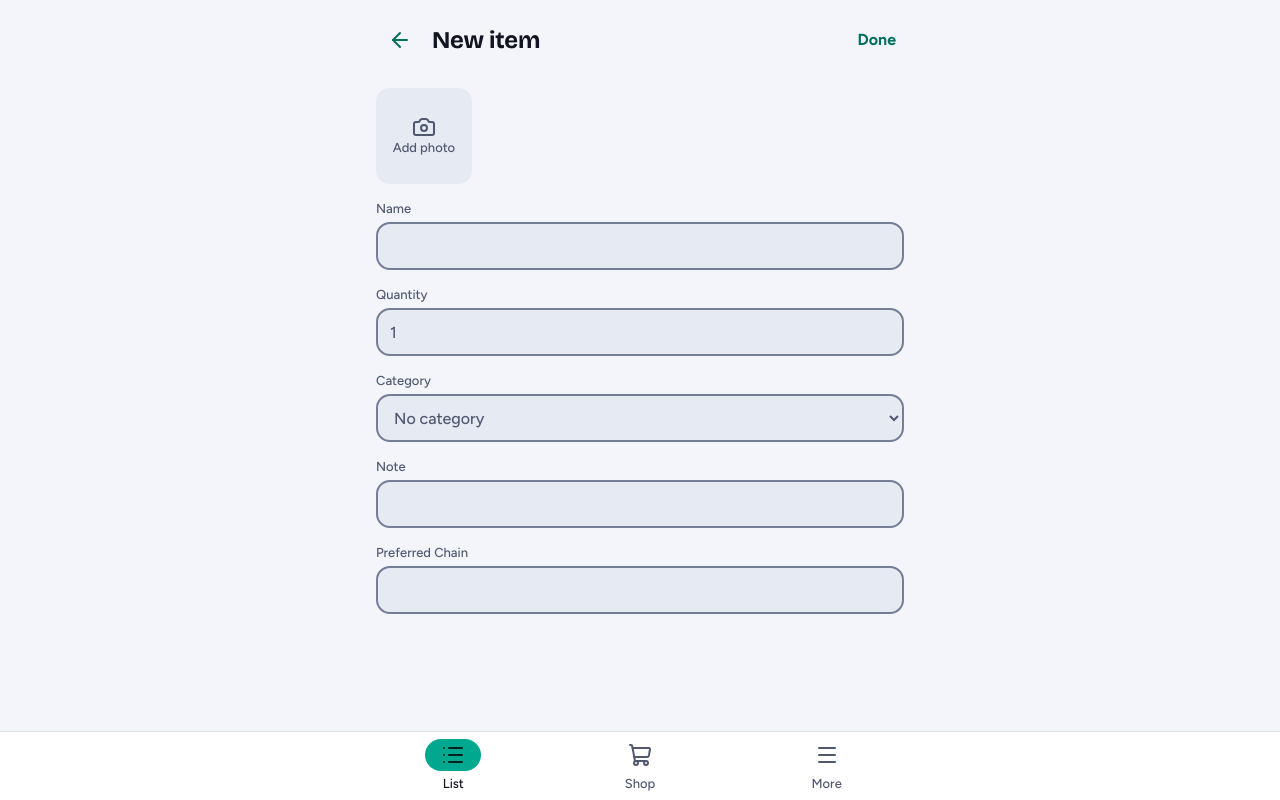
it: New item page saving › refuses the quantity 0 without writing
Type "Eggs" into the field labelled "Name" at (640,246), box [376,222,904,270]
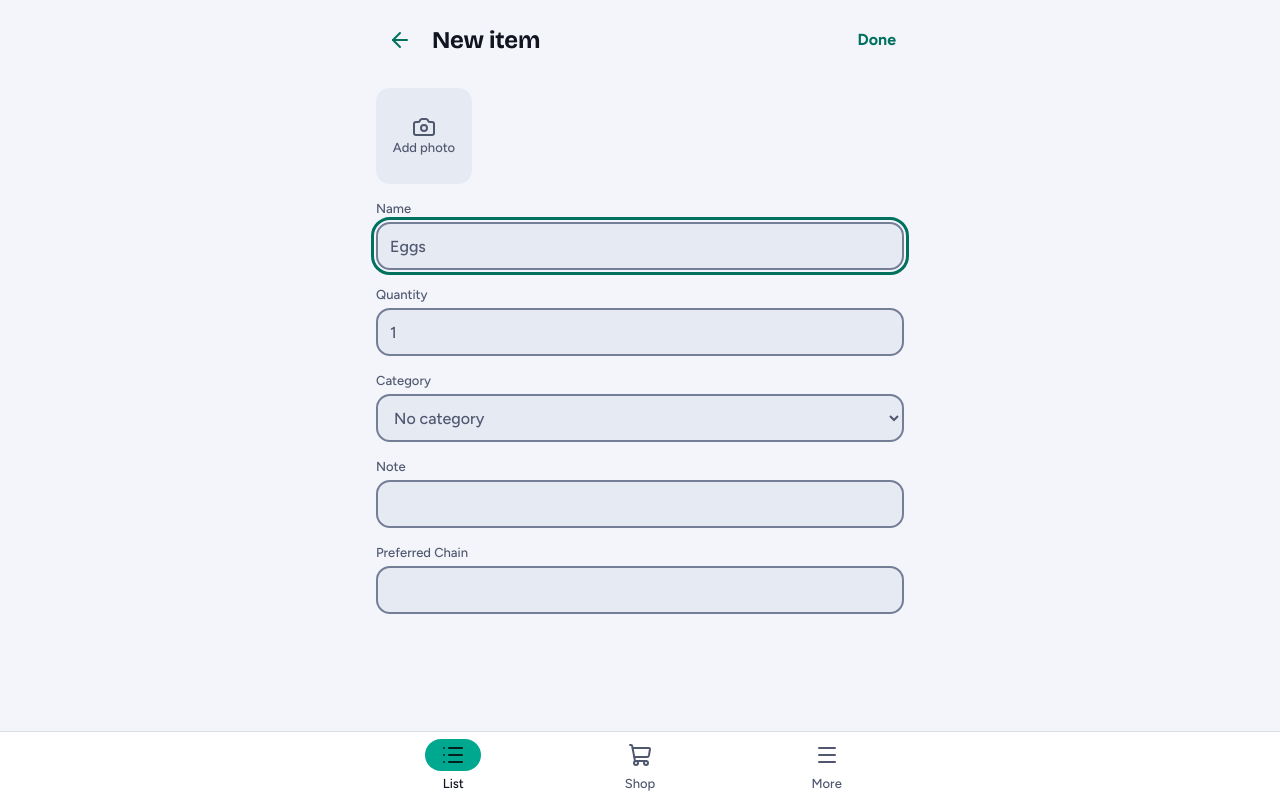
Replace the text in the field labelled "Quantity" with "0" at (640,332), box [376,308,904,356]
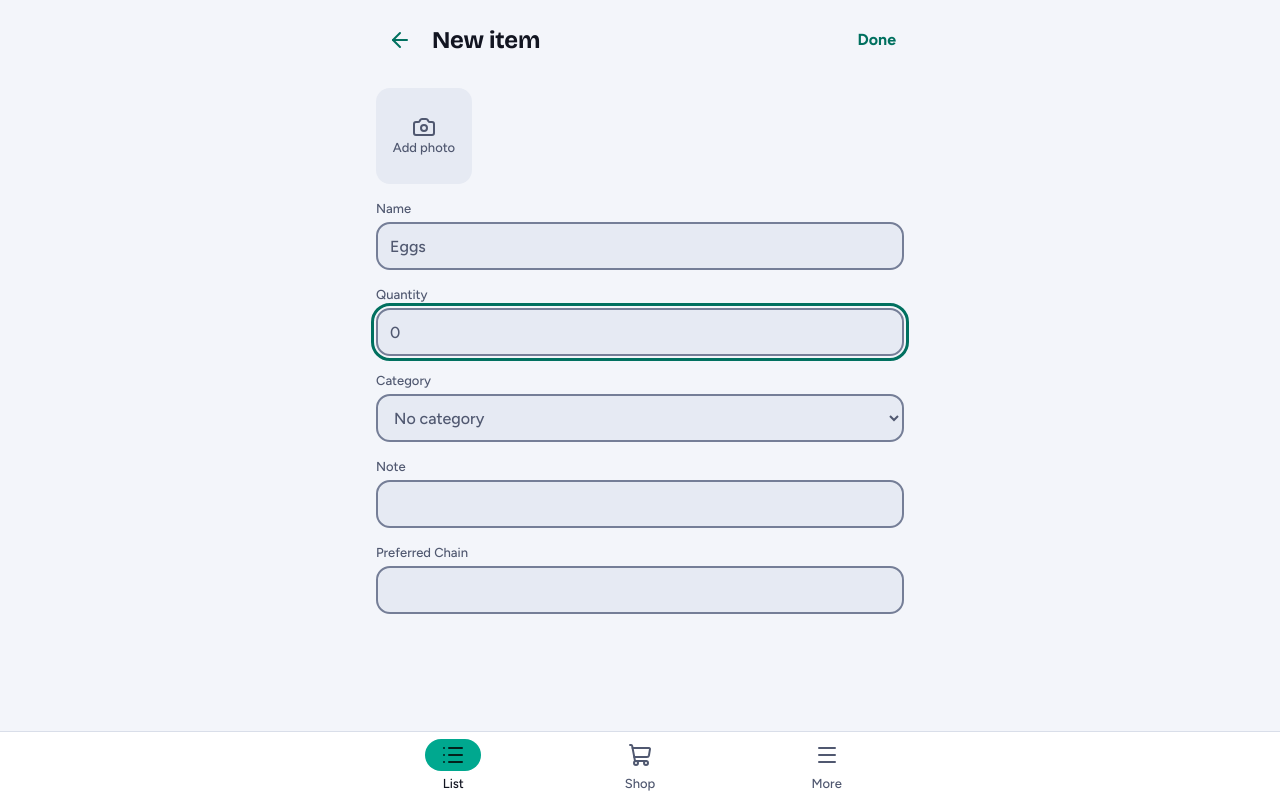
Click the button "Done" at (877,40), box [850,16,904,64]
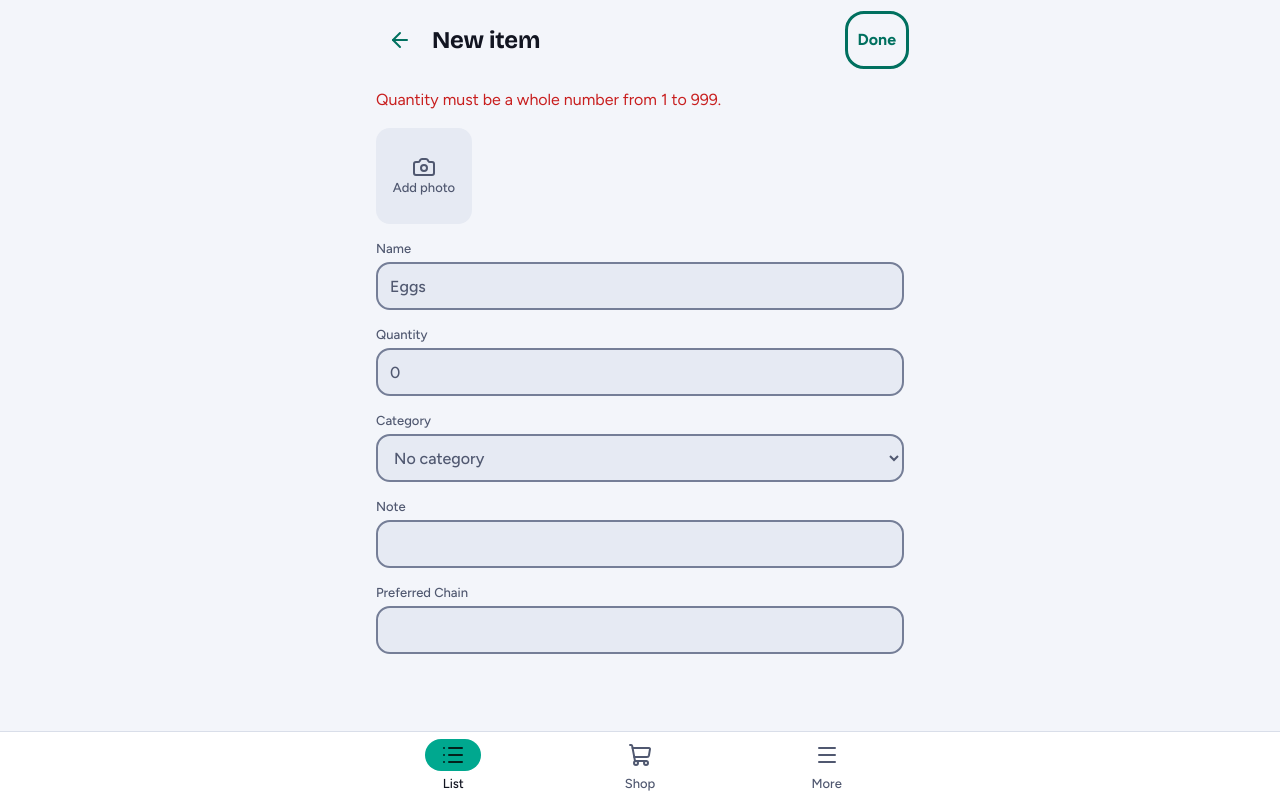
Result: the message reads "Quantity must be a whole number from 1 to 999." at [376,90,721,109]
